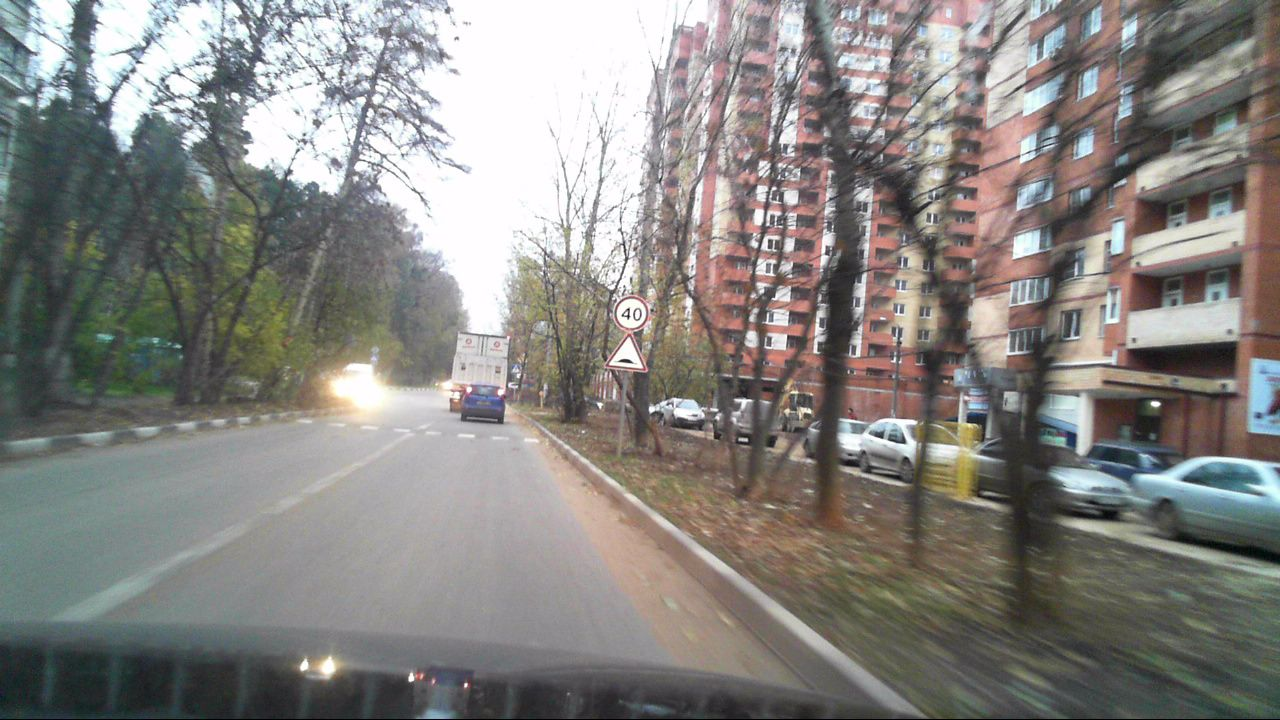speed_warning_40: (613, 295, 649, 330)
